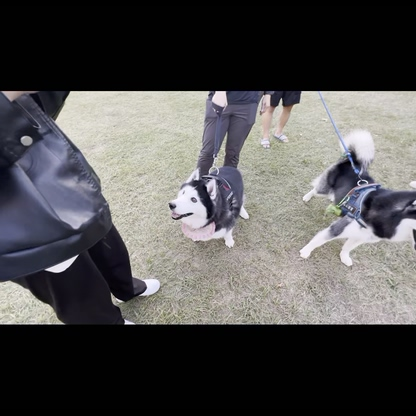husky: (166, 163, 251, 249)
